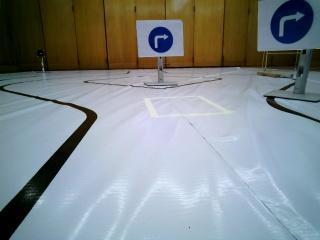right: (260, 0, 319, 49), (139, 23, 184, 55)
